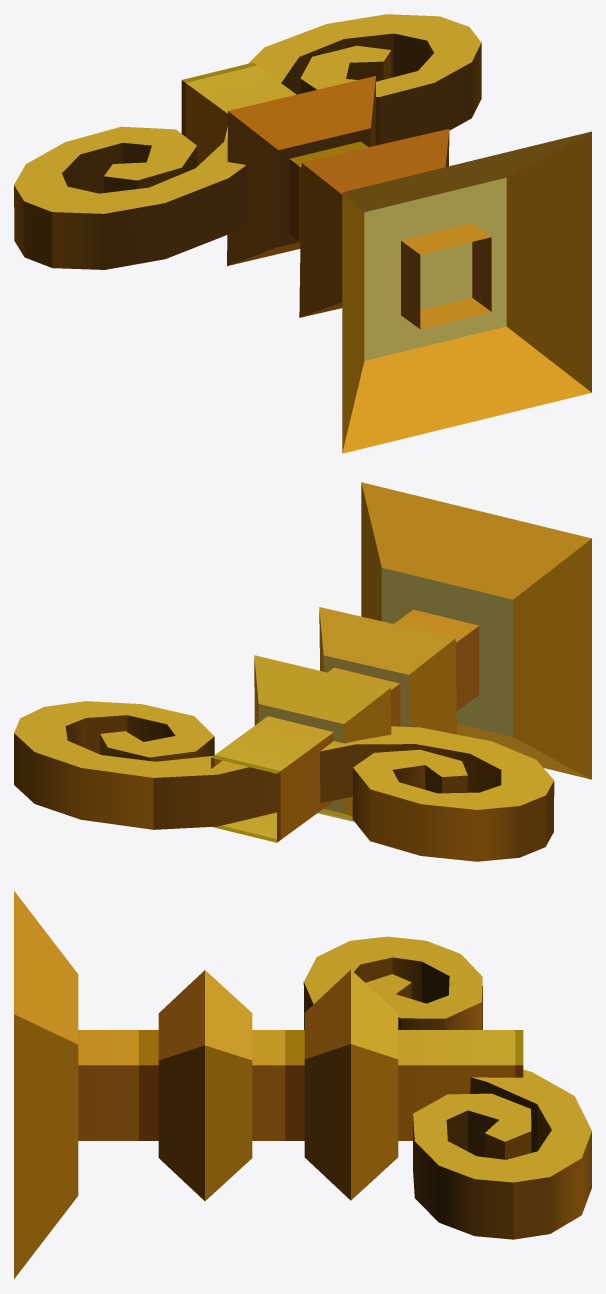
The model's file is HolidayCandleStickGold.fbx.
3 renders of one model, top to bottom at view 1: azimuth 30°, elevation 25°; view 2: azimuth 150°, elevation 25°; view 3: azimuth 270°, elevation 25°, orthographic. The views are drawn at different scales.
Parts seen in each view (by area): view 1: HolidayCandleStickGold; view 2: HolidayCandleStickGold; view 3: HolidayCandleStickGold.
Part boxes in pixels (x1,y1,x2,y2): HolidayCandleStickGold: (14,14,591,453); HolidayCandleStickGold: (14,482,591,861); HolidayCandleStickGold: (14,891,591,1278).
Bounding box in the file's own units: 62.55 × 30.79 × 60.8.
